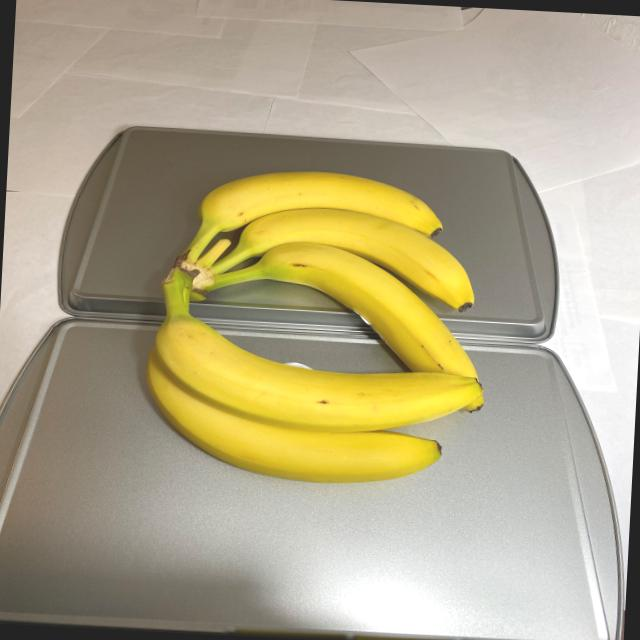banana: (132, 162, 492, 493)
